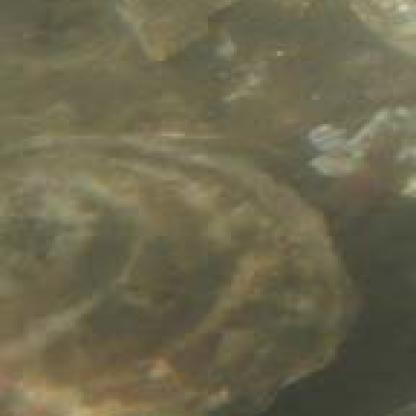Oyster-Closed: (0, 126, 355, 416)
